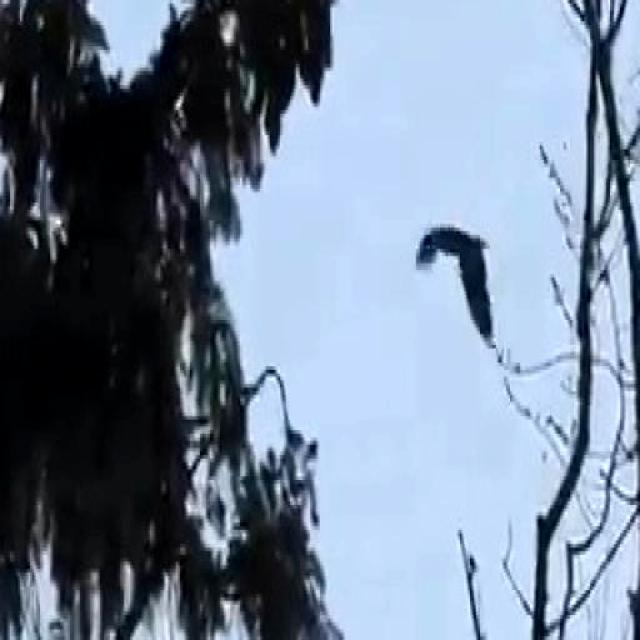airplane: (408, 202, 510, 371)
